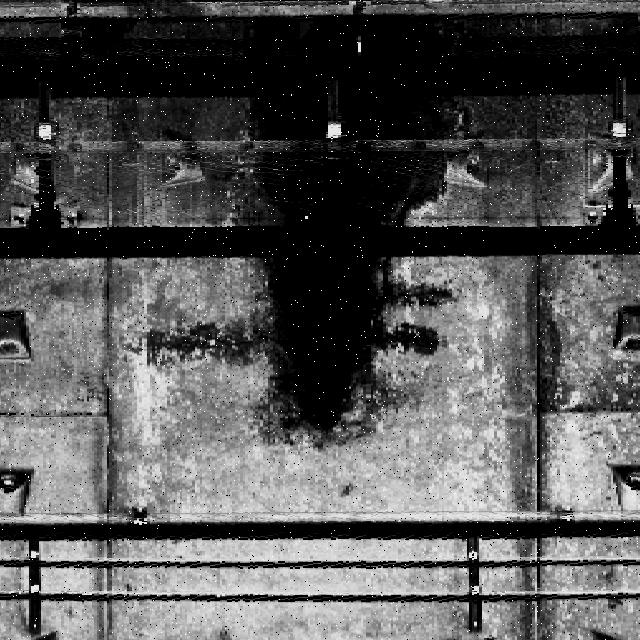leakage: (194, 1, 483, 464)
